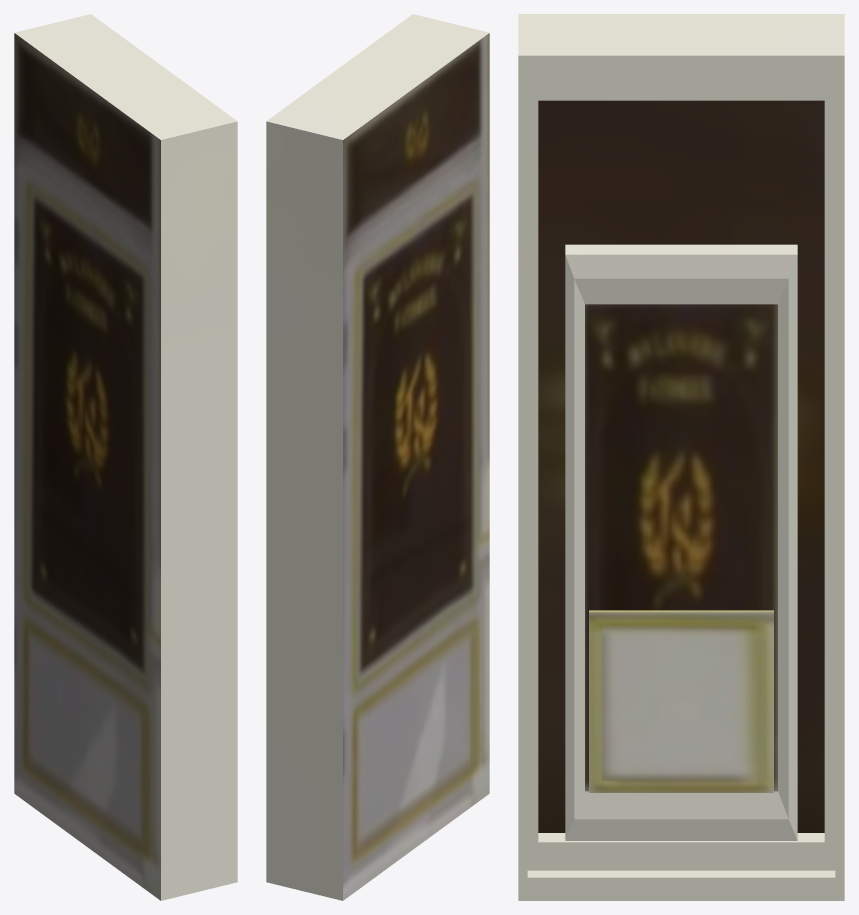
File: PuertaTrasera.obj
3 renders of one model, left to right at view 1: azimuth 30°, elevation 25°; view 2: azimuth 150°, elevation 25°; view 3: azimuth 270°, elevation 25°, orthographic. The views are drawn at different scales.
Parts seen in each view (by area): view 1: PuertaTrasera; view 2: PuertaTrasera; view 3: PuertaTrasera.
Boxes of the visible parts, x1=… form: PuertaTrasera: x1=14, y1=14, x2=237, y2=900; PuertaTrasera: x1=266, y1=14, x2=489, y2=900; PuertaTrasera: x1=518, y1=14, x2=844, y2=900.
Bounding box in the file's own units: 1.94 × 18.34 × 6.41.
Materials: 1 (1 with a texture image).
